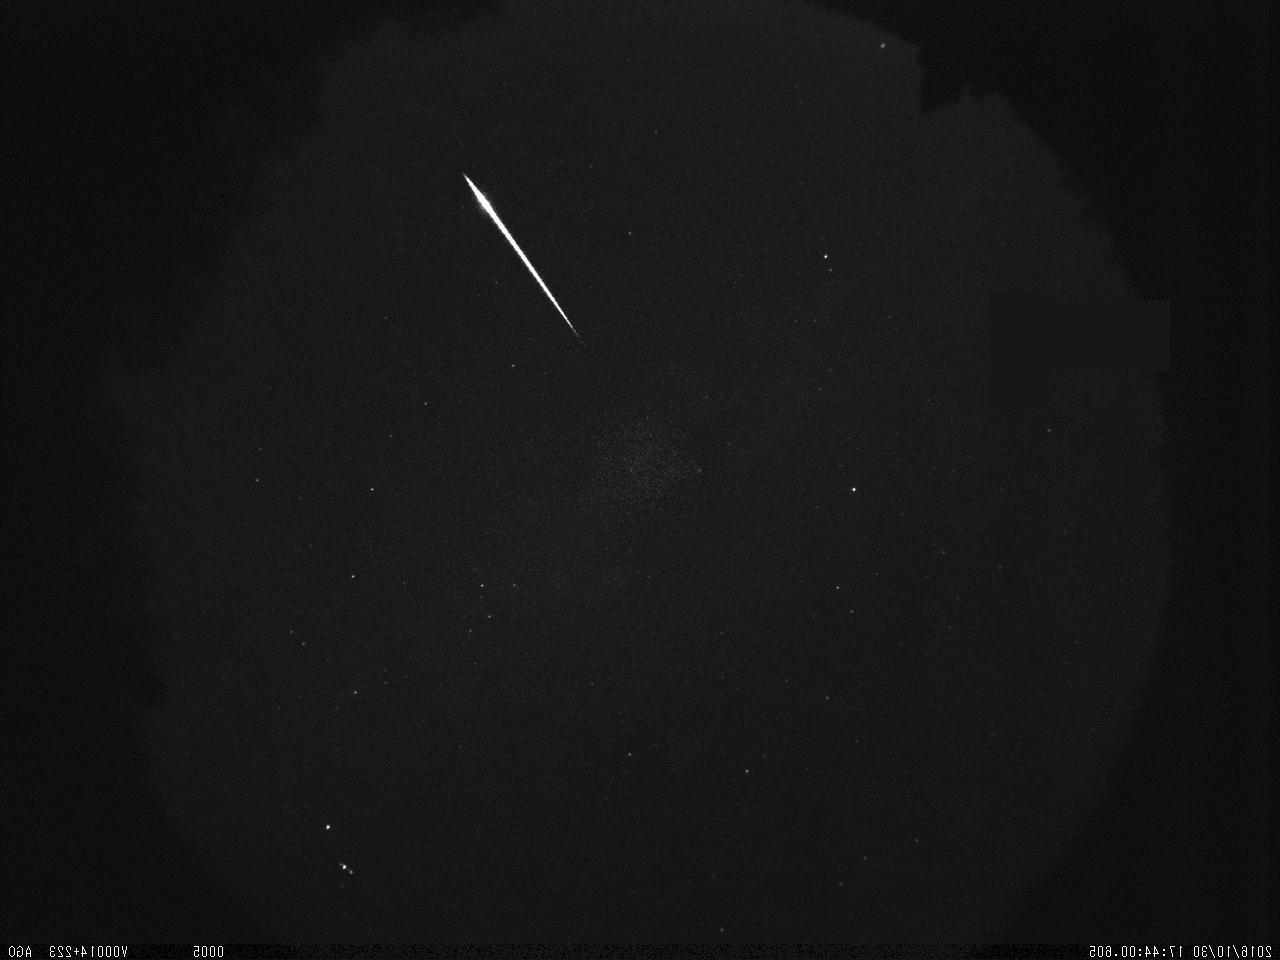meteor: (458, 166, 590, 350)
